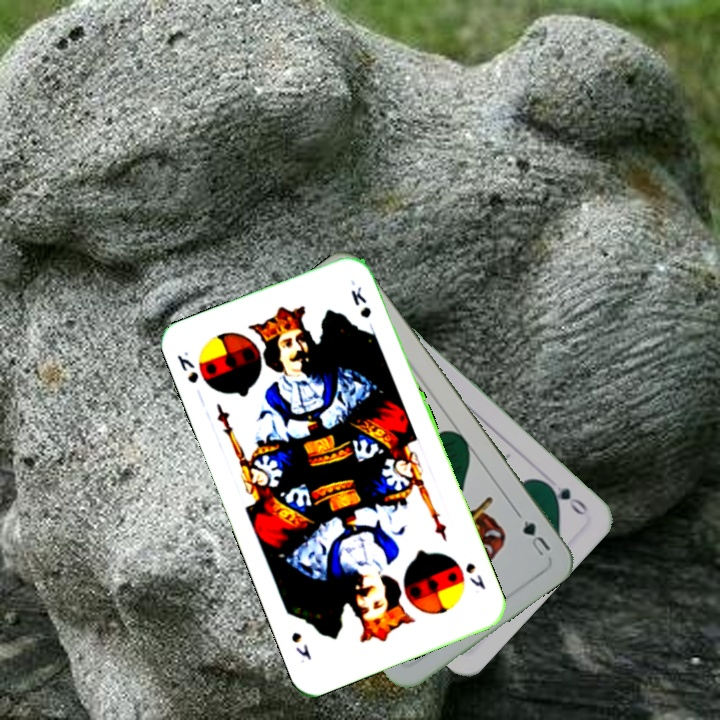GO: (540, 477, 591, 519)
GU: (518, 516, 554, 560)
SK: (173, 347, 201, 386), (461, 558, 488, 592)
